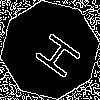H: (25, 25, 84, 81)
